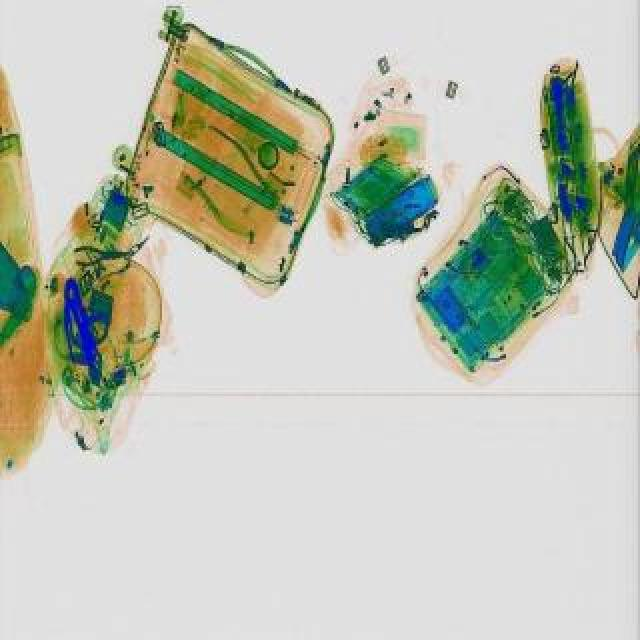wrench: (76, 244, 132, 268)
